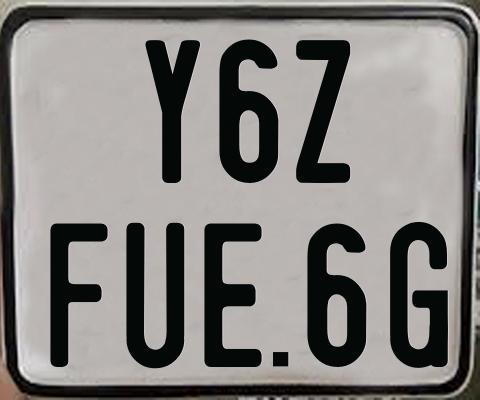6: (218, 37, 277, 186), (306, 220, 366, 365)
E: (204, 220, 267, 366)
F: (48, 221, 110, 369)
G: (389, 219, 451, 366)
U: (126, 222, 189, 369)
Y: (143, 39, 204, 185)
Z: (294, 38, 350, 184)
